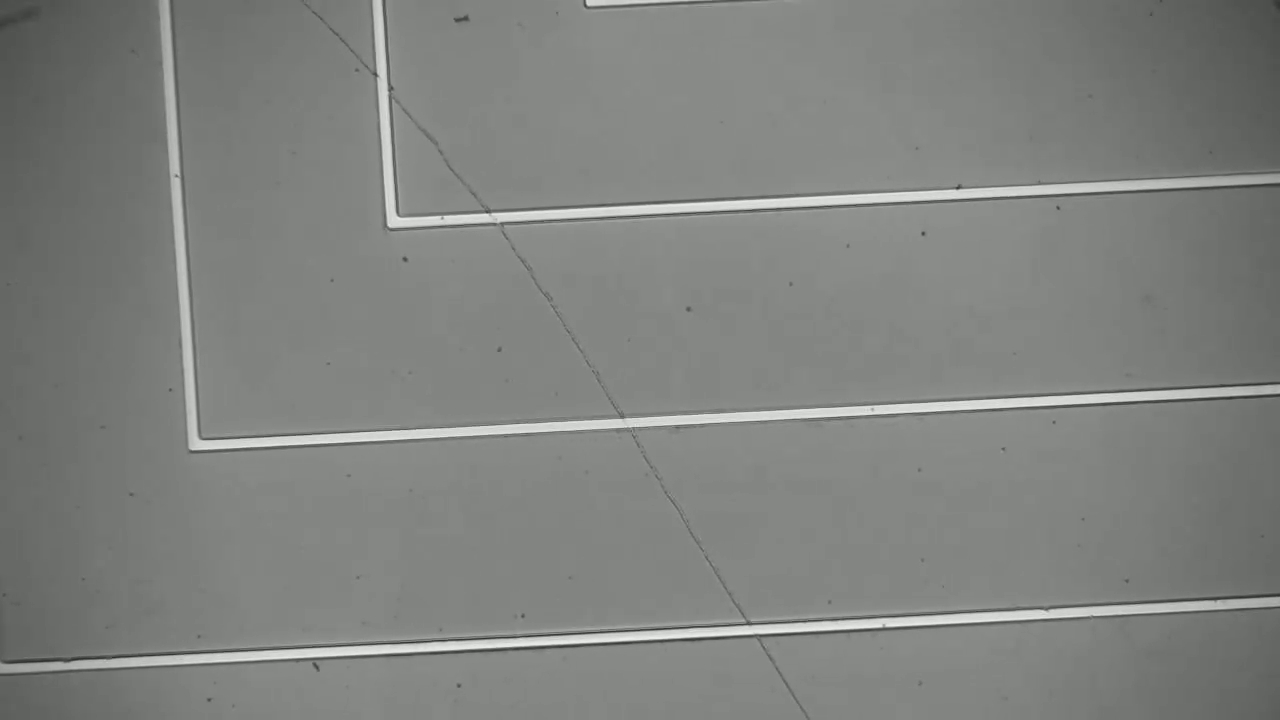scratch: (301, 10, 822, 719)
